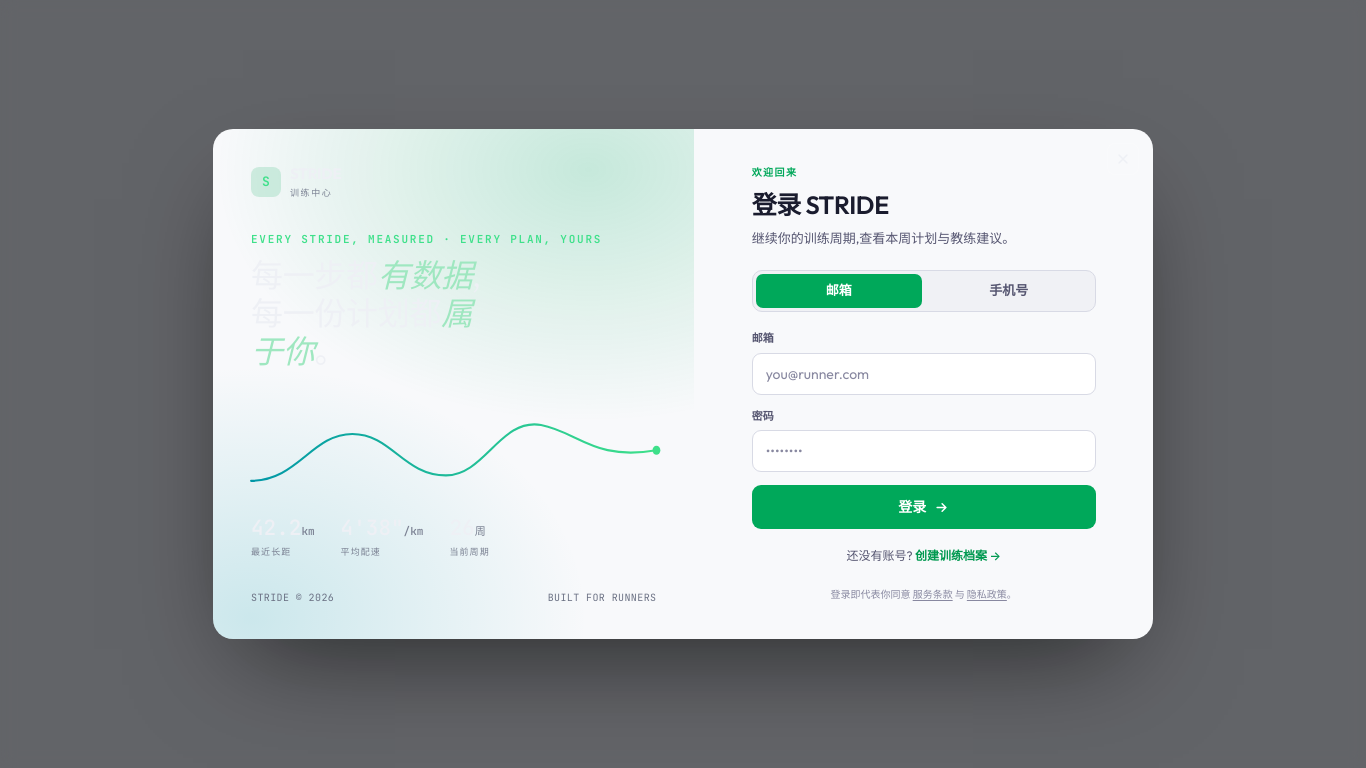
Test: LoginModal › defaults to the email tab and swaps the form to phone on tab switch
Expected: the field labelled "邮箱" is shown, [752,352,1096,394]
Step 1. Click the button "手机号" → (1009, 291), box [926,274,1092,308]
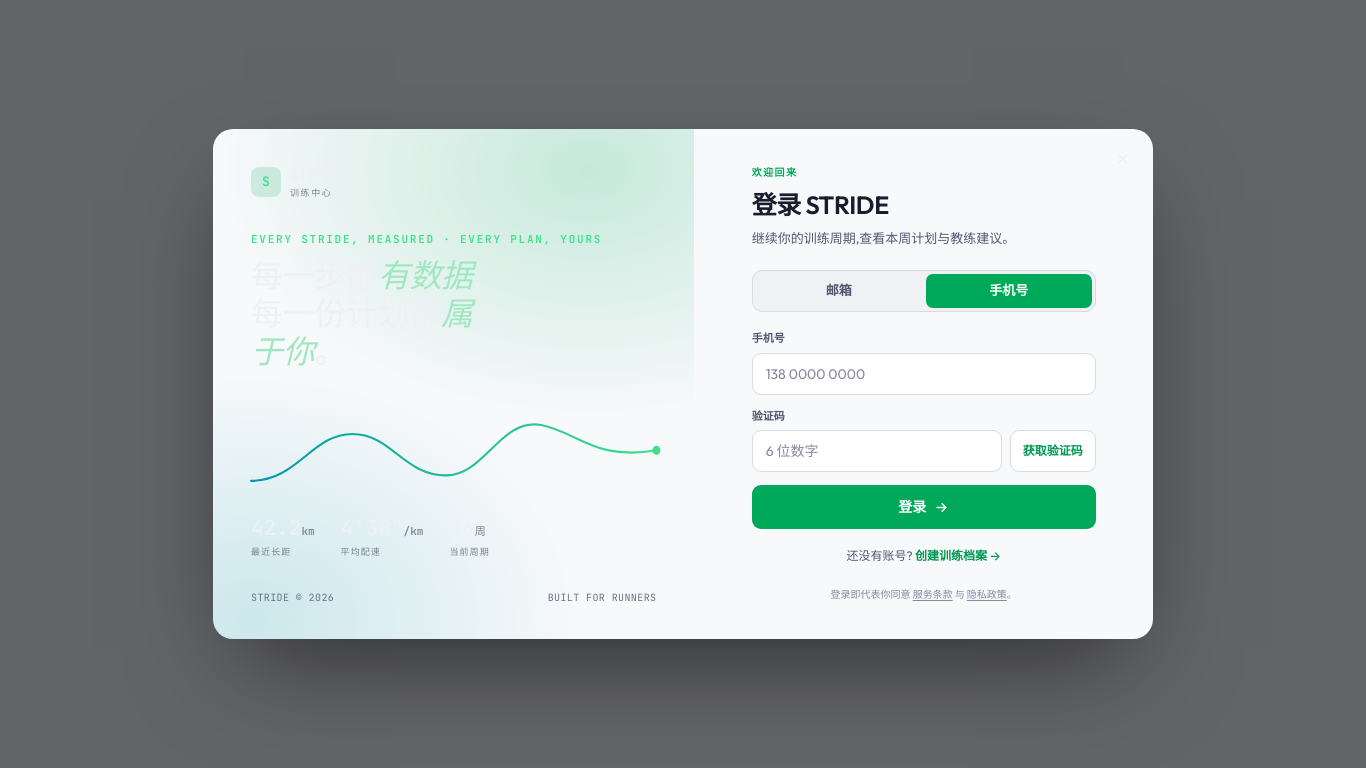
Expected: the field labelled "手机号" is shown, [752,352,1096,394]
Expected: the field labelled "验证码" is shown, [752,430,1002,472]
